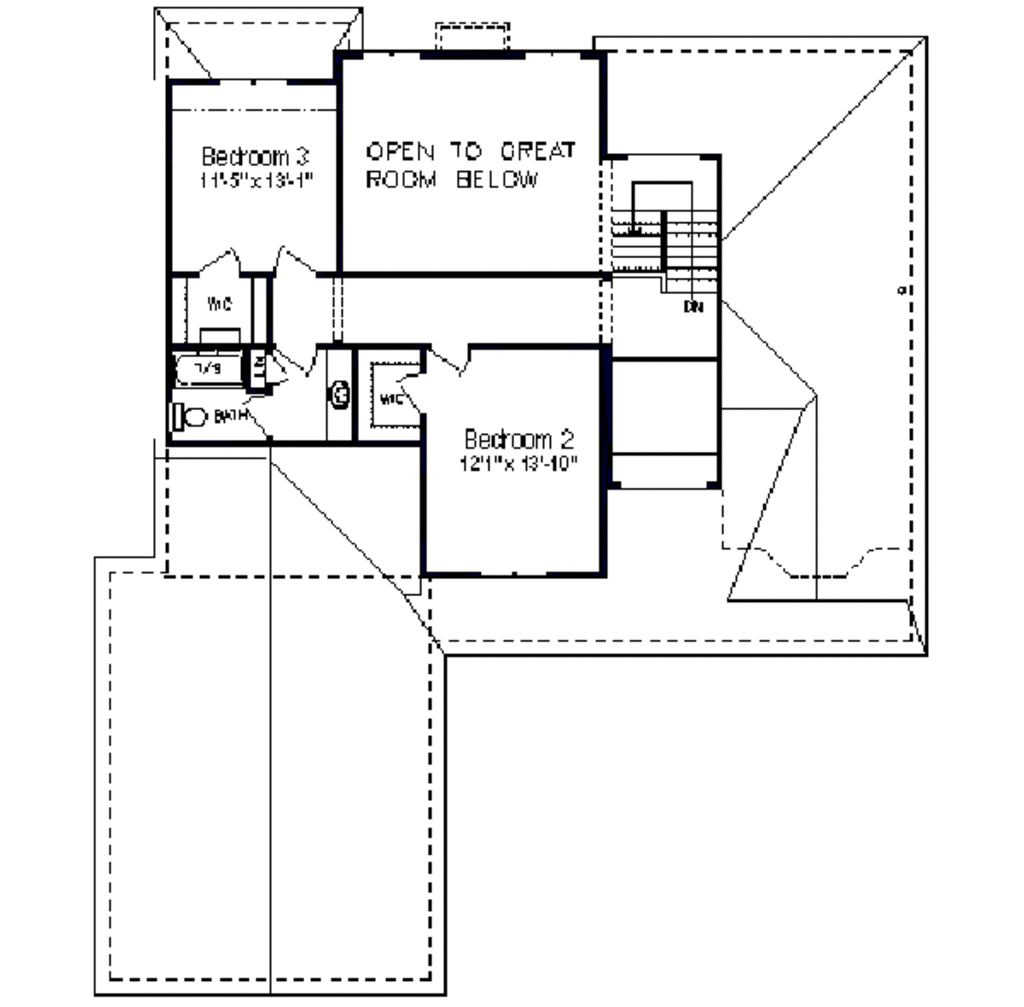door: (426, 337, 474, 378), (202, 240, 243, 284), (266, 244, 316, 280)
large_sink: (169, 396, 217, 438)
small_sink: (321, 350, 353, 439)
stairs: (594, 152, 719, 320)
tub: (171, 349, 245, 390)
